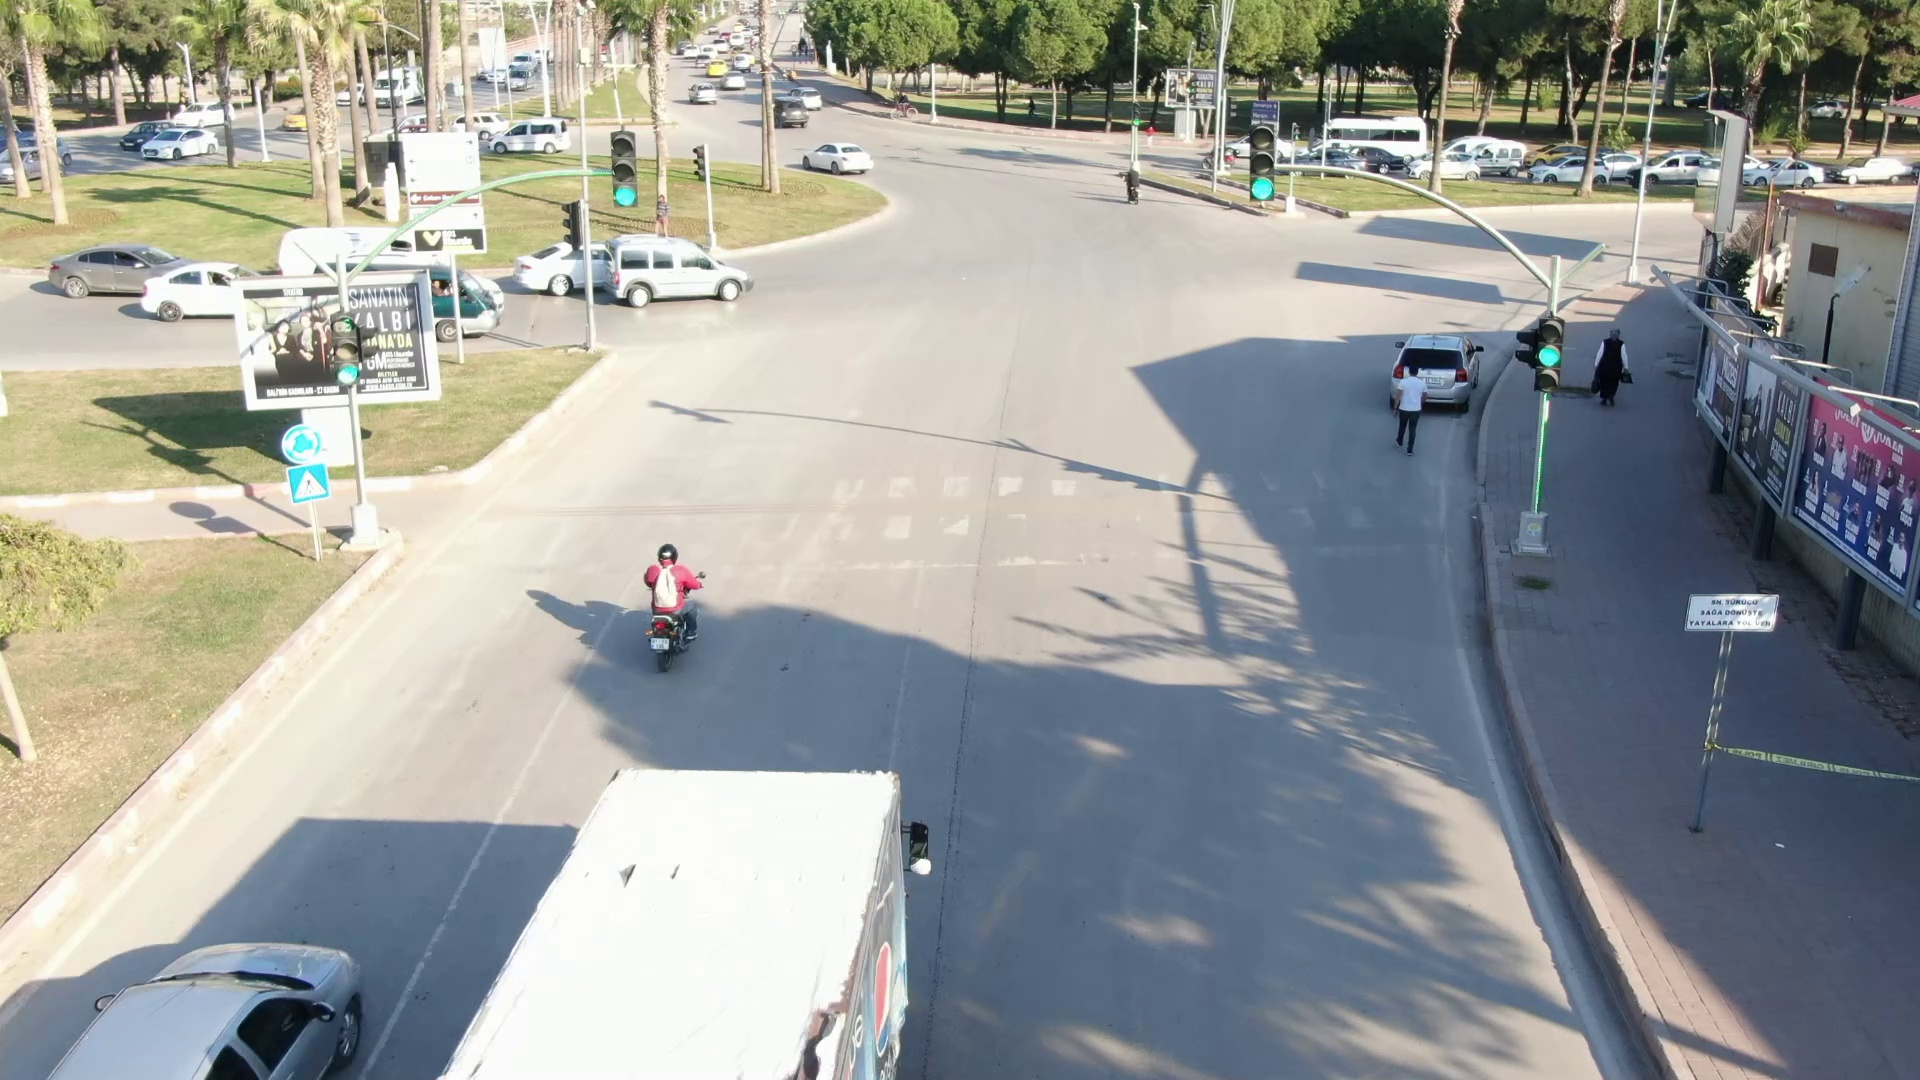car: (599, 226, 772, 321), (29, 231, 203, 323), (793, 134, 907, 186), (483, 110, 580, 160), (142, 121, 233, 167), (680, 77, 723, 108)
person: (626, 528, 723, 656), (1587, 320, 1645, 415), (1389, 362, 1437, 458)
